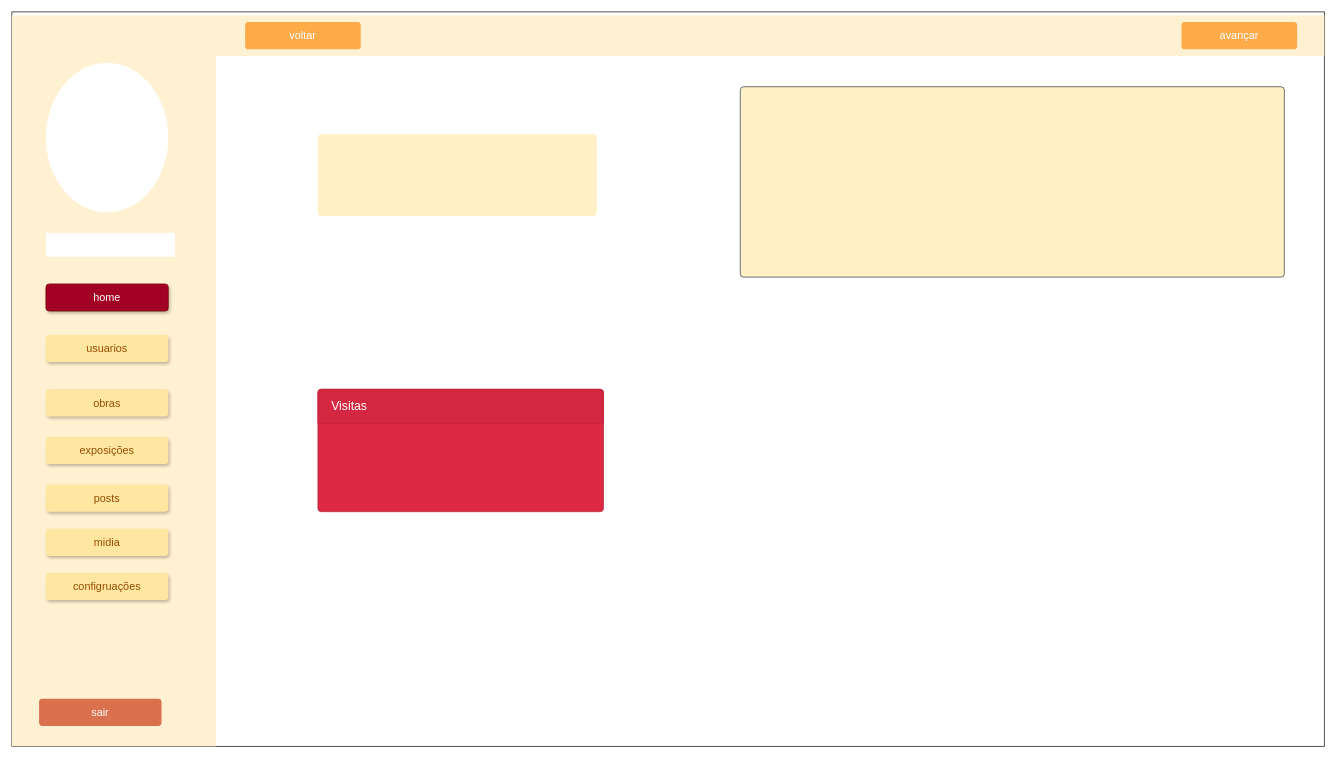
This 1336x758 diagram has some shape labels left out. Here are the shapes that lost their labels. From the top down, the centre of each, then its label:
[457,175]: Info
[1012,181]: data euro dolar
[110,244]: titulo
[460,450]: xyz visitantes neste mes
